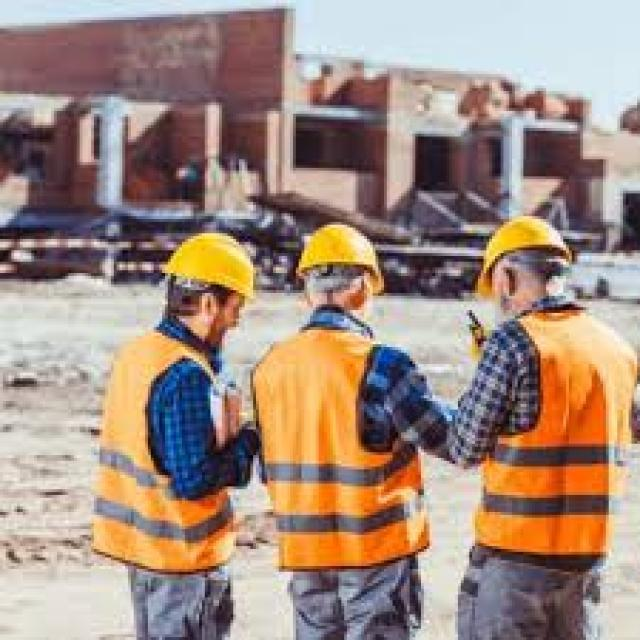yellow helmet: (159, 216, 269, 306), (469, 206, 591, 286), (289, 216, 414, 291)
